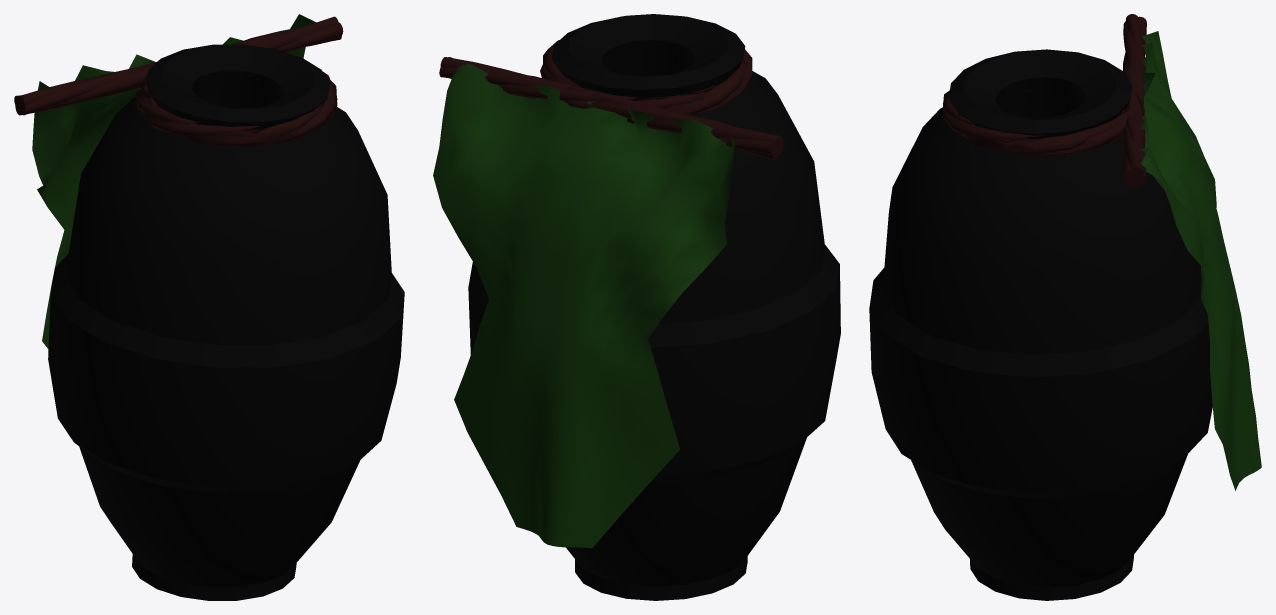
Rendered from pots.FBX.
The picture shows the model from 3 angles, left to right: view 1: azimuth 30°, elevation 25°; view 2: azimuth 150°, elevation 25°; view 3: azimuth 270°, elevation 25°; orthographic projection. The views are drawn at different scales.
Parts seen in each view (by area): view 1: Plane137; view 2: Plane137; view 3: Plane137.
Part boxes in pixels (x1,y1,x2,y2): Plane137: [14, 14, 404, 600]; Plane137: [433, 14, 840, 600]; Plane137: [869, 14, 1261, 600].
Size of the model in its own units: 67.2 by 100 by 72.32.
